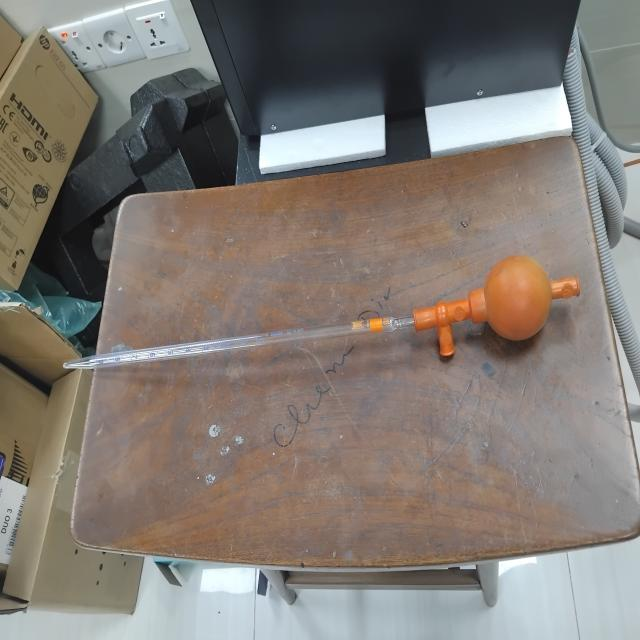Volumetric_Pipet: (44, 246, 591, 414)
